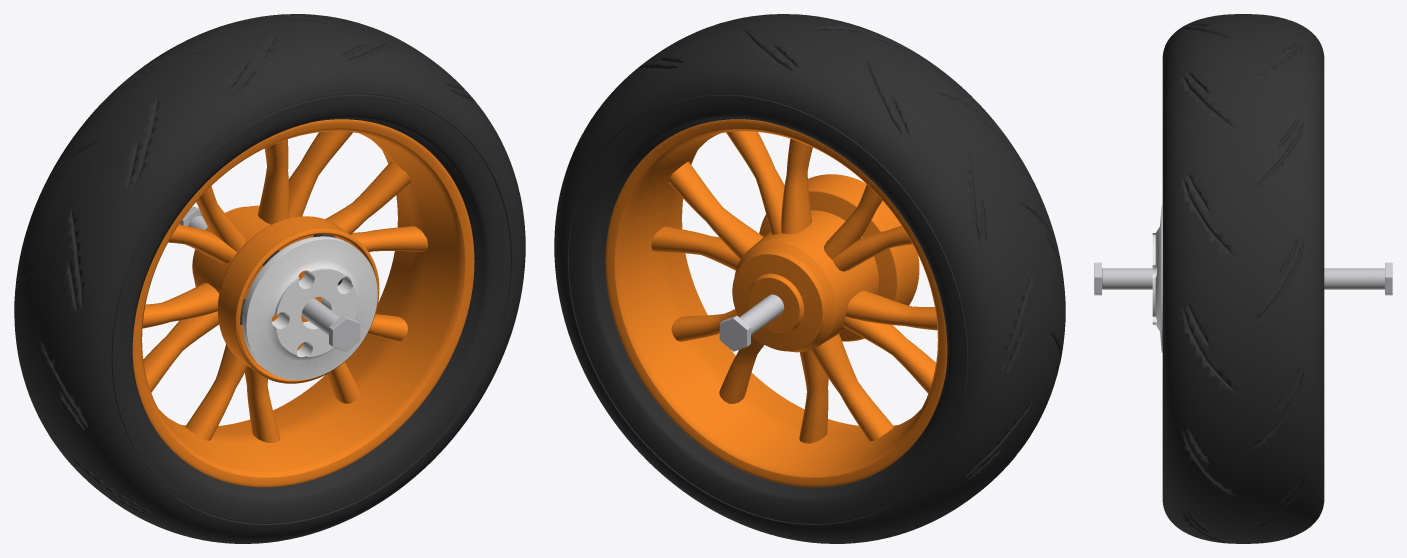
The model's file is bike_superbike__rear_wheel.glb.
3 views of the same model, side by side, from view 1: azimuth 30°, elevation 25°; view 2: azimuth 150°, elevation 25°; view 3: azimuth 270°, elevation 25° (orthographic). The views are drawn at different scales.
Visible parts, largest first — view 1: wheels__rear_wheel__tyre, wheels__rear_wheel__rim, wheels__rear_wheel__cast_spokes, wheels__rear_wheel__sprocket_carrier, wheels__rear_wheel__hub, wheels__rear_wheel__axle; view 2: wheels__rear_wheel__tyre, wheels__rear_wheel__rim, wheels__rear_wheel__cast_spokes, wheels__rear_wheel__hub, wheels__rear_wheel__axle; view 3: wheels__rear_wheel__tyre, wheels__rear_wheel__axle, wheels__rear_wheel__sprocket_carrier.
Boxes of the visible parts, bbox=[...] form: wheels__rear_wheel__tyre: bbox=[14, 14, 525, 543]; wheels__rear_wheel__rim: bbox=[132, 119, 474, 487]; wheels__rear_wheel__cast_spokes: bbox=[142, 131, 427, 442]; wheels__rear_wheel__sprocket_carrier: bbox=[242, 236, 377, 380]; wheels__rear_wheel__hub: bbox=[192, 205, 379, 383]; wheels__rear_wheel__axle: bbox=[179, 206, 360, 351]; wheels__rear_wheel__tyre: bbox=[554, 14, 1065, 543]; wheels__rear_wheel__rim: bbox=[605, 119, 947, 487]; wheels__rear_wheel__cast_spokes: bbox=[651, 131, 937, 443]; wheels__rear_wheel__hub: bbox=[732, 174, 919, 352]; wheels__rear_wheel__axle: bbox=[719, 294, 784, 351]; wheels__rear_wheel__tyre: bbox=[1162, 14, 1324, 543]; wheels__rear_wheel__axle: bbox=[1094, 262, 1392, 295]; wheels__rear_wheel__sprocket_carrier: bbox=[1152, 205, 1162, 352].
Bounding box in the file's own units: 62.2 × 62.2 × 35.
